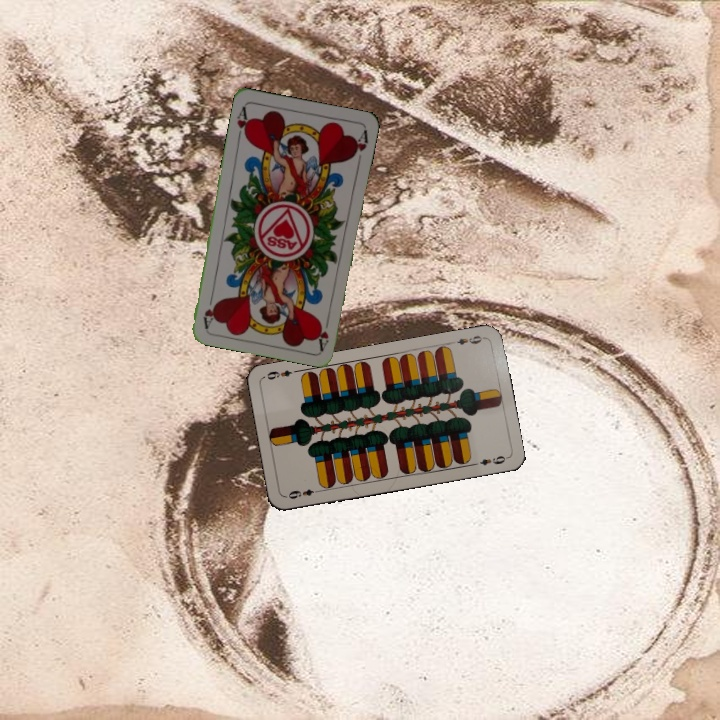E9: (283, 485, 323, 502), (447, 331, 487, 347)
HA: (233, 102, 253, 143), (313, 311, 333, 352)
